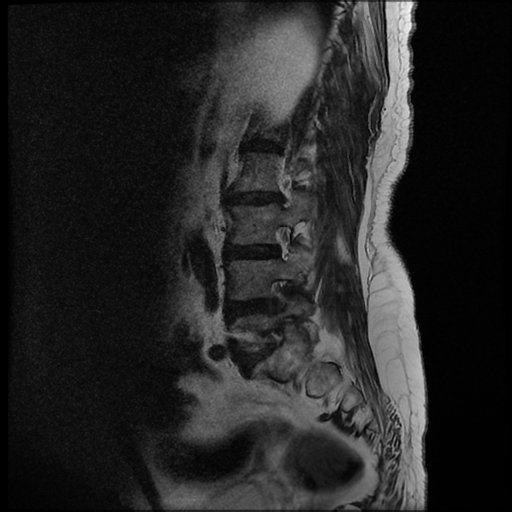LFS0: (265, 214, 302, 270)
